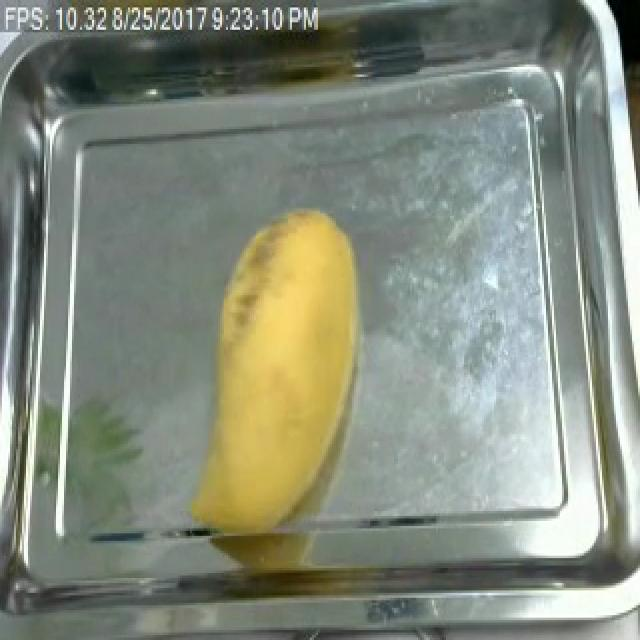fruit: (182, 198, 380, 550)
